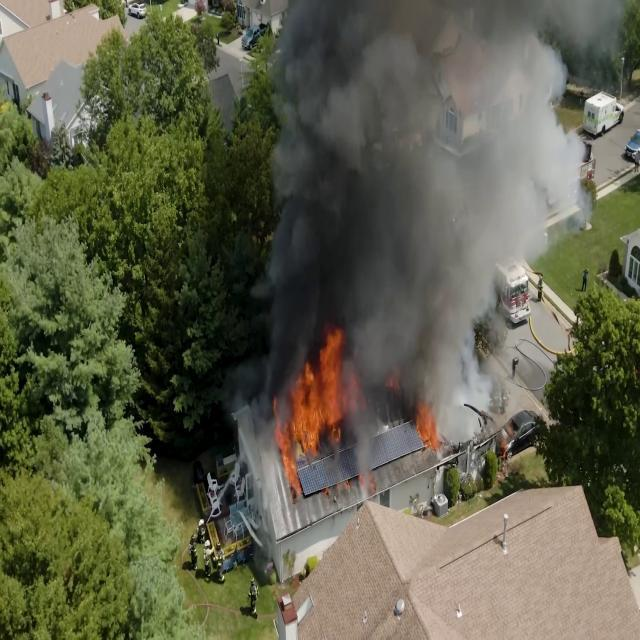Fire: (263, 340, 365, 469)
Smoke: (251, 32, 418, 302), (414, 120, 469, 394)
